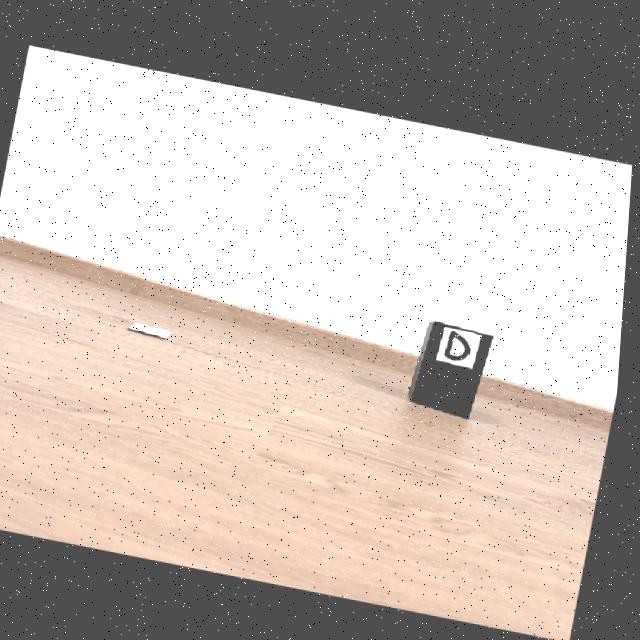D: (449, 323, 474, 354)
